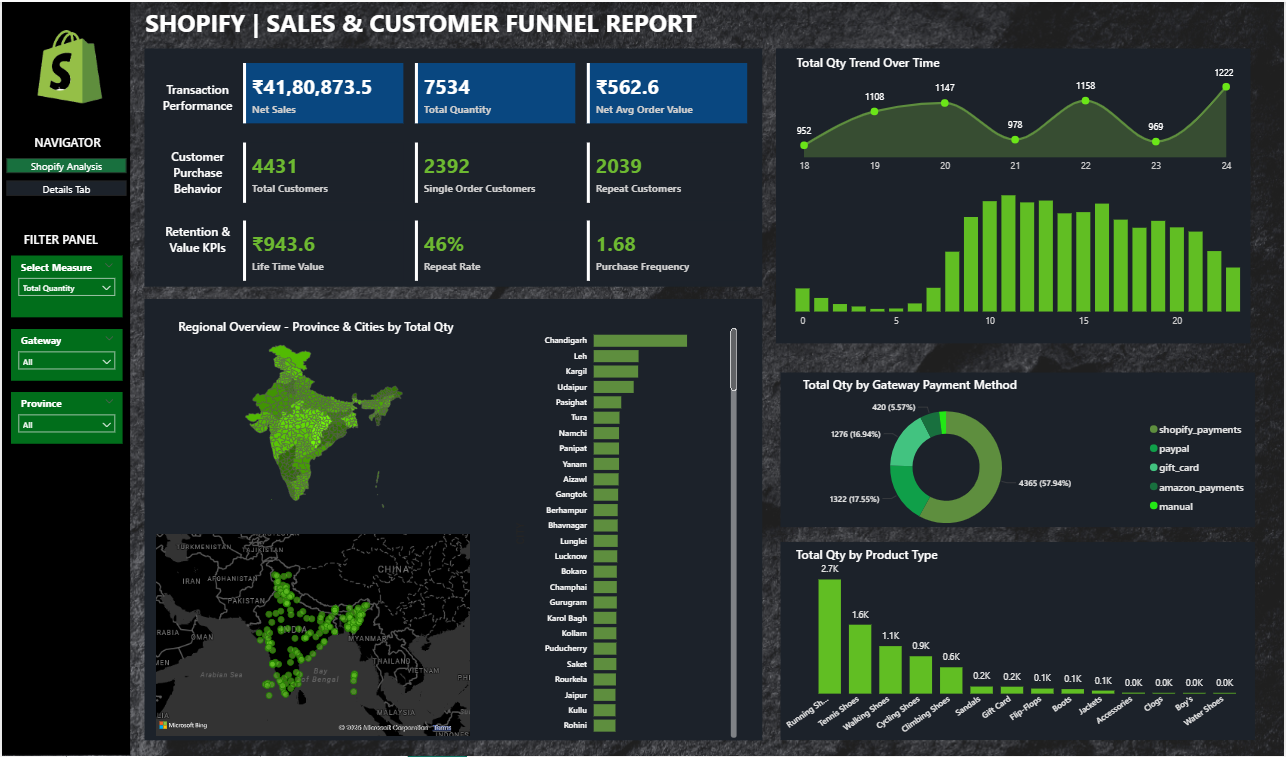

The page's visual inventory and layout, read from the dashboard file:
{"tool":"powerbi","page":{"name":"Shopify Analysis","canvas":[1700,1000],"ordinal":0},"visuals":[{"type":"shape","box":[0,0,170.1,998.6],"z":0},{"type":"textbox","box":[185.6,0,790.9,61.9],"z":1000},{"type":"shape","box":[190,61.9,819.6,315.9],"z":2000},{"type":"cardVisual","fields":{"Data":["shopify_sales.Net Sales","shopify_sales.Total Quantity","shopify_sales.Net Avg Order Value"]},"box":[313.7,75.1,680.4,90.6],"z":3000},{"type":"cardVisual","fields":{"Data":["shopify_sales.Transaction Perf"]},"box":[190,57.4,141.4,128.1],"z":4000},{"type":"cardVisual","fields":{"Data":["shopify_sales.Total Customers","shopify_sales.Single Order Customers","shopify_sales.Repeat Customers"]},"box":[313.7,180,680.4,90.6],"z":5000},{"type":"cardVisual","fields":{"Data":["shopify_sales.Customer Purchase Behavior"]},"box":[190,156.9,141.4,128.1],"z":6000},{"type":"cardVisual","fields":{"Data":["shopify_sales.Life Time Value","shopify_sales.Repeat Rate","shopify_sales.Purchase Frequency"]},"box":[313.7,285,680.4,90.6],"z":7000},{"type":"cardVisual","fields":{"Data":["shopify_sales.Retention & Value KPIs"]},"box":[190,247.4,141.4,128.1],"z":8000},{"type":"shape","box":[190,393.2,819.6,585.4],"z":9000},{"type":"shapeMap","fields":{"Value":["shopify_sales.Total Quantity"],"Category":["shopify_sales.Billing Address Province"]},"box":[198.8,437.4,455.1,249.6],"z":10000},{"type":"slicer","fields":{"Values":["Select Measure.Select Measure"]},"box":[11.5,336.2,147.7,82.3],"z":11000},{"type":"map","fields":{"Category":["shopify_sales.Location"]},"box":[198.8,700.3,426.4,278.4],"z":12000},{"type":"clusteredBarChart","fields":{"Y":["shopify_sales.Total Quantity"],"Category":["shopify_sales.CITY"]},"box":[673.8,419.7,304.9,561.1],"z":13000},{"type":"cardVisual","fields":{"Data":["shopify_sales.Map Title"]},"box":[190,393.2,455.1,64.1],"z":14000},{"type":"shape","box":[1027.3,61.9,629.6,391],"z":15000},{"type":"areaChart","fields":{"Y":["shopify_sales.Total Quantity"],"Category":["shopify_sales.Invoice Date.Variation.Date Hierarchy.Day"]},"box":[1049.4,75.1,589.9,159.1],"z":16000},{"type":"columnChart","fields":{"Y":["shopify_sales.Total Quantity"],"Category":["shopify_sales.Hour"]},"box":[1047.2,234.2,600.9,205.5],"z":17000},{"type":"cardVisual","fields":{"Data":["shopify_sales.Trend Title"]},"box":[921.1,43.8,455.6,63.7],"z":18000},{"type":"shape","box":[1031.7,490.4,629.6,205],"z":19000},{"type":"donutChart","fields":{"Y":["shopify_sales.Total Quantity"],"Category":["shopify_sales.Gateway"]},"box":[976.5,516.9,684.8,198.8],"z":20000},{"type":"cardVisual","fields":{"Data":["shopify_sales.Gateway Title"]},"box":[977.8,468.9,455.6,65.6],"z":21000},{"type":"shape","box":[1031.7,715.8,629.6,262.9],"z":22000},{"type":"columnChart","fields":{"Y":["shopify_sales.Total Quantity"],"Category":["shopify_sales.Product Type"]},"box":[1031.7,729,625.2,251.8],"z":23000},{"type":"cardVisual","fields":{"Data":["shopify_sales.Product Title"]},"box":[923.4,695.9,452.9,64.1],"z":24000},{"type":"slicer","fields":{"Values":["shopify_sales.Gateway"]},"box":[11,433,148,68.5],"z":25000},{"type":"slicer","fields":{"Values":["shopify_sales.Billing Address Province"]},"box":[11,516.9,148,68.5],"z":26000},{"type":"pageNavigator","box":[6.6,207.7,159.1,50.8],"z":27000},{"type":"textbox","box":[27.9,169.1,115.4,37.8],"z":28000},{"type":"textbox","box":[24.3,298.2,128.1,37.6],"z":29000},{"type":"image","box":[30,32.5,120,107.5],"z":30000}]}

Visuals, with their boxes on the page's 1700x1000 design canvas (x1, y1, x2, y2). These are canvas units, not pixel positions in the 1286x757 screenshot, which may show the page scaled, cropped or inside an application window:
shape: l=0, t=0, r=170, b=999
textbox: l=186, t=0, r=976, b=62
shape: l=190, t=62, r=1010, b=378
cardVisual - shopify_sales.Net Sales x shopify_sales.Total Quantity: l=314, t=75, r=994, b=166
cardVisual - shopify_sales.Transaction Perf: l=190, t=57, r=331, b=186
cardVisual - shopify_sales.Total Customers x shopify_sales.Single Order Customers: l=314, t=180, r=994, b=271
cardVisual - shopify_sales.Customer Purchase Behavior: l=190, t=157, r=331, b=285
cardVisual - shopify_sales.Life Time Value x shopify_sales.Repeat Rate: l=314, t=285, r=994, b=376
cardVisual - shopify_sales.Retention & Value KPIs: l=190, t=247, r=331, b=376
shape: l=190, t=393, r=1010, b=979
shapeMap - shopify_sales.Total Quantity x shopify_sales.Billing Address Province: l=199, t=437, r=654, b=687
slicer - Select Measure.Select Measure: l=12, t=336, r=159, b=418
map - shopify_sales.Location: l=199, t=700, r=625, b=979
clusteredBarChart - shopify_sales.Total Quantity x shopify_sales.CITY: l=674, t=420, r=979, b=981
cardVisual - shopify_sales.Map Title: l=190, t=393, r=645, b=457
shape: l=1027, t=62, r=1657, b=453
areaChart - shopify_sales.Total Quantity x shopify_sales.Invoice Date.Variation.Date Hierarchy.Day: l=1049, t=75, r=1639, b=234
columnChart - shopify_sales.Total Quantity x shopify_sales.Hour: l=1047, t=234, r=1648, b=440
cardVisual - shopify_sales.Trend Title: l=921, t=44, r=1377, b=108
shape: l=1032, t=490, r=1661, b=695
donutChart - shopify_sales.Total Quantity x shopify_sales.Gateway: l=976, t=517, r=1661, b=716
cardVisual - shopify_sales.Gateway Title: l=978, t=469, r=1433, b=534
shape: l=1032, t=716, r=1661, b=979
columnChart - shopify_sales.Total Quantity x shopify_sales.Product Type: l=1032, t=729, r=1657, b=981
cardVisual - shopify_sales.Product Title: l=923, t=696, r=1376, b=760
slicer - shopify_sales.Gateway: l=11, t=433, r=159, b=502
slicer - shopify_sales.Billing Address Province: l=11, t=517, r=159, b=585
pageNavigator: l=7, t=208, r=166, b=258
textbox: l=28, t=169, r=143, b=207
textbox: l=24, t=298, r=152, b=336
image: l=30, t=32, r=150, b=140
